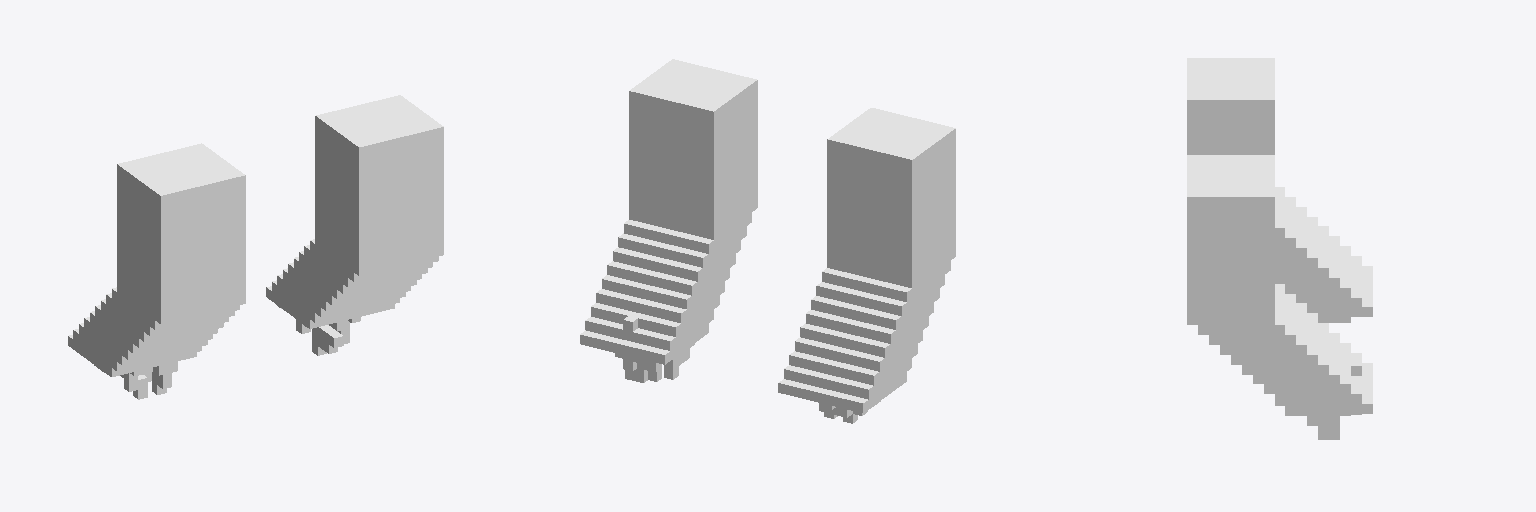
File: skelet-2.obj
3 renders of one model, left to right at view 1: azimuth 30°, elevation 25°; view 2: azimuth 150°, elevation 25°; view 3: azimuth 270°, elevation 25°, orthographic.
Parts seen in each view (by area): view 1: object 1; view 2: object 1; view 3: object 1.
Boxes of the visible parts, box(x1,y1,x2,y2) form: object 1: box(68, 95, 443, 399); object 1: box(580, 59, 955, 423); object 1: box(1187, 58, 1372, 439).
Bounding box in the file's own units: 3 × 2.6 × 1.7.